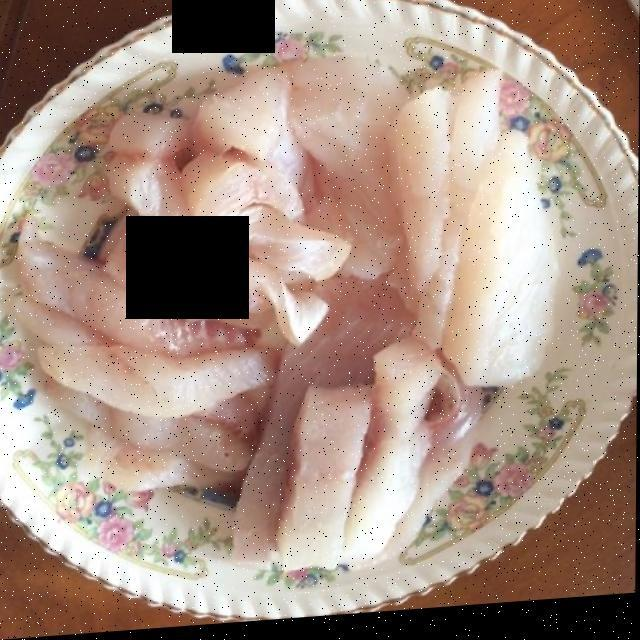fish: (38, 64, 555, 582)
